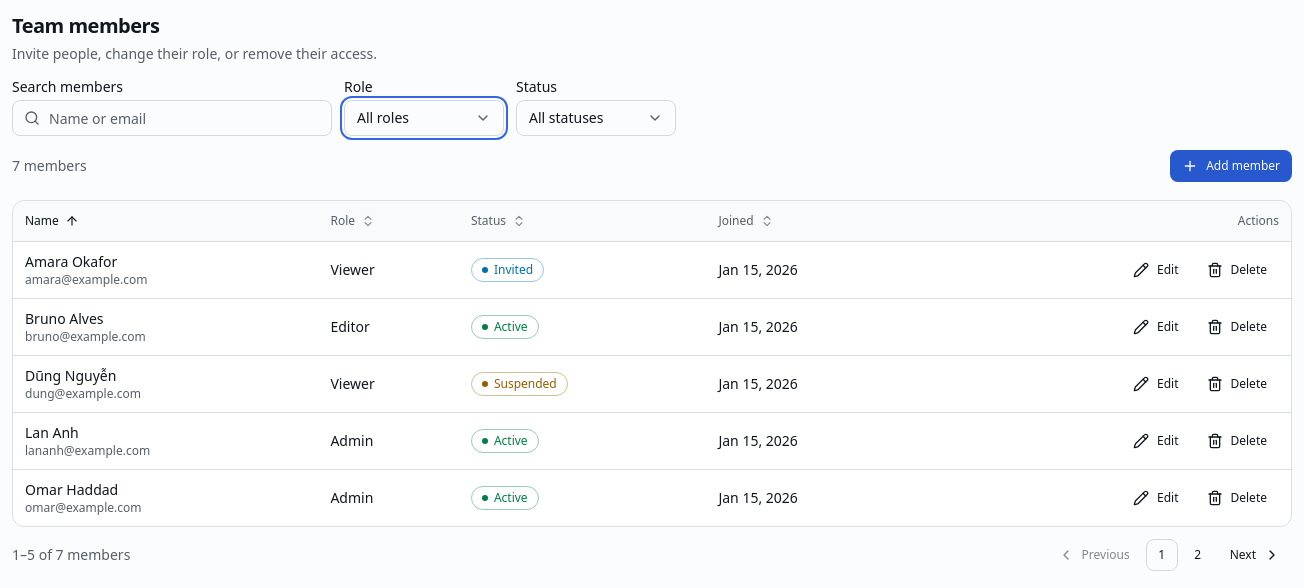
Scenario: CrudManagementPage › search and filters › filters by role and by status
Press Enter
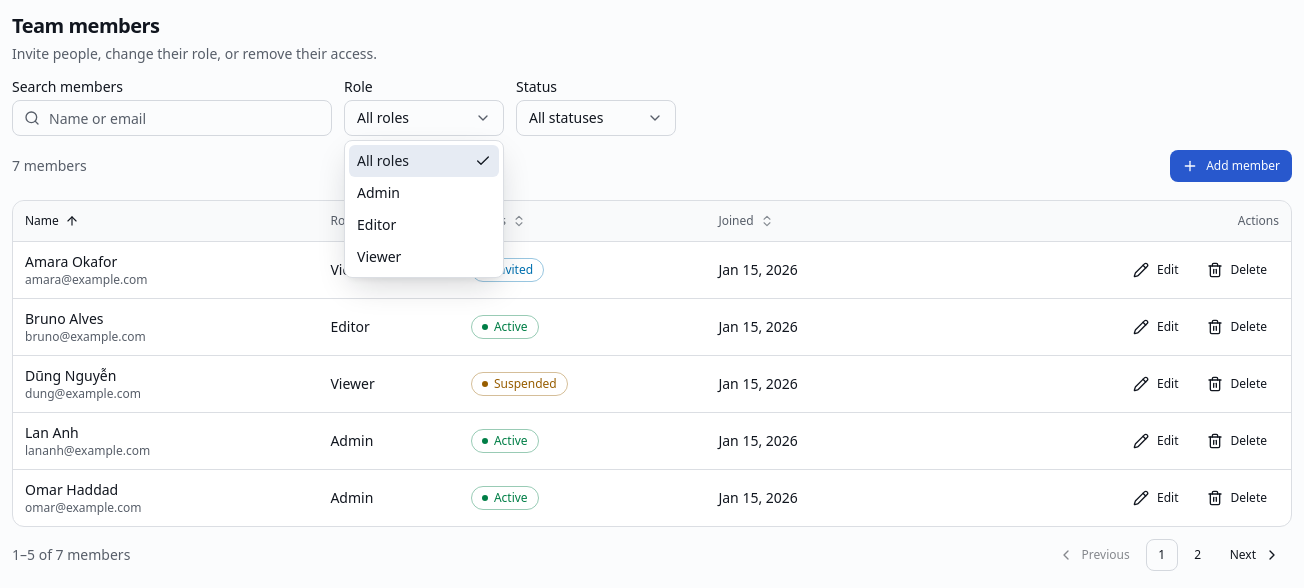
Click the option "Admin": coordinates (378, 192) [357,183,400,202]
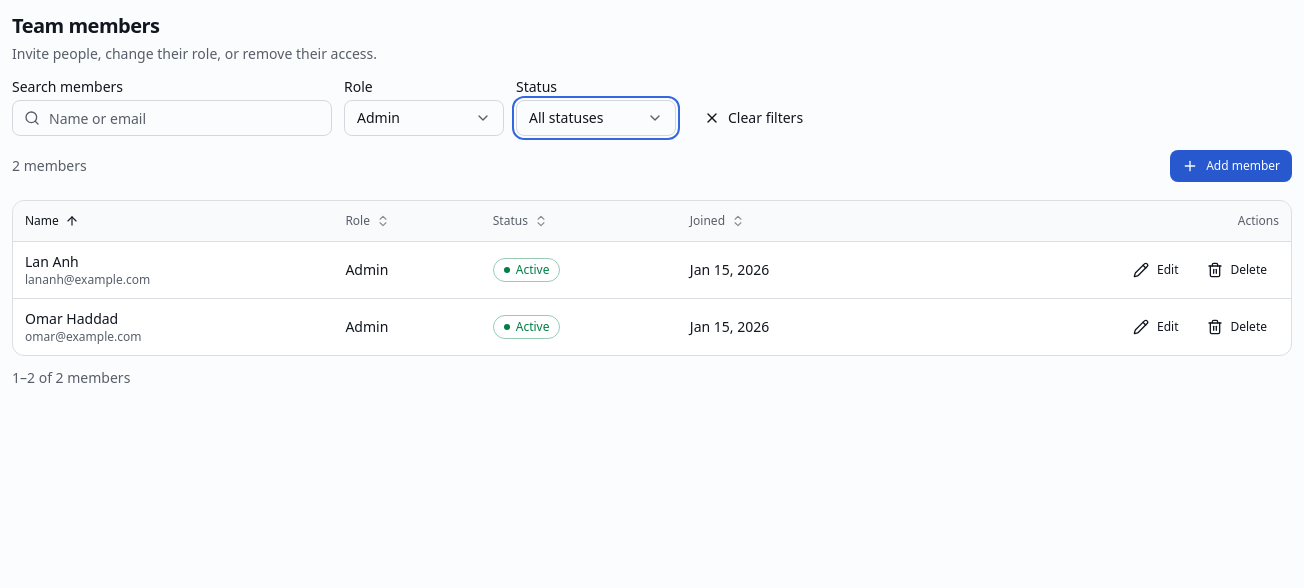
Press Enter
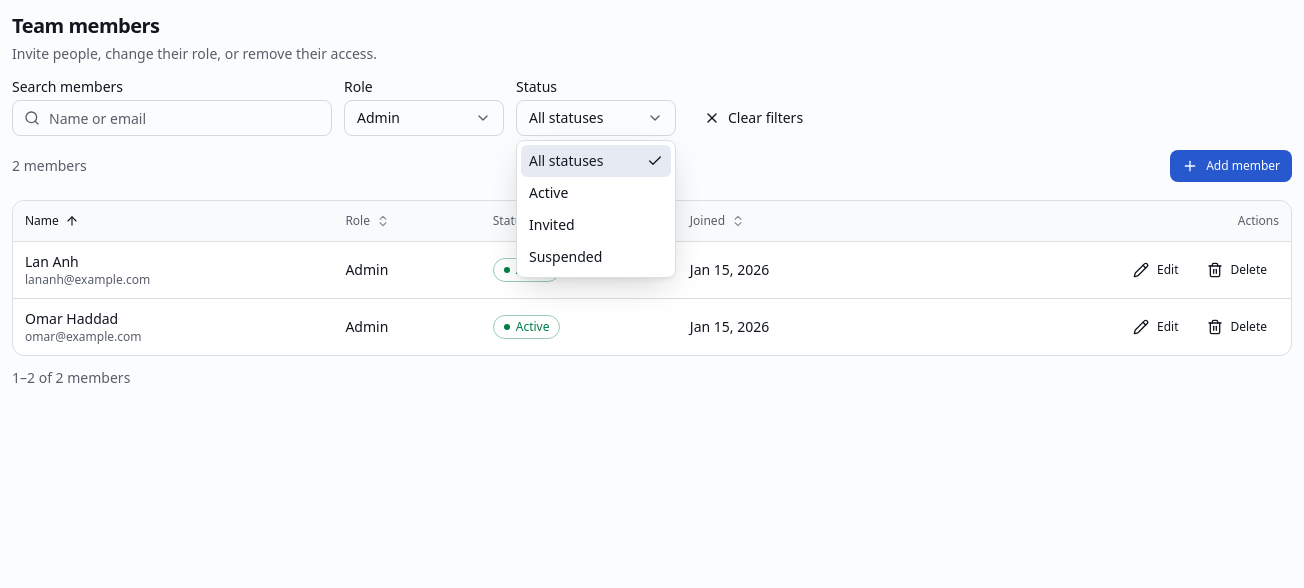
Click the option "Invited": coordinates (552, 224) [529,215,575,234]
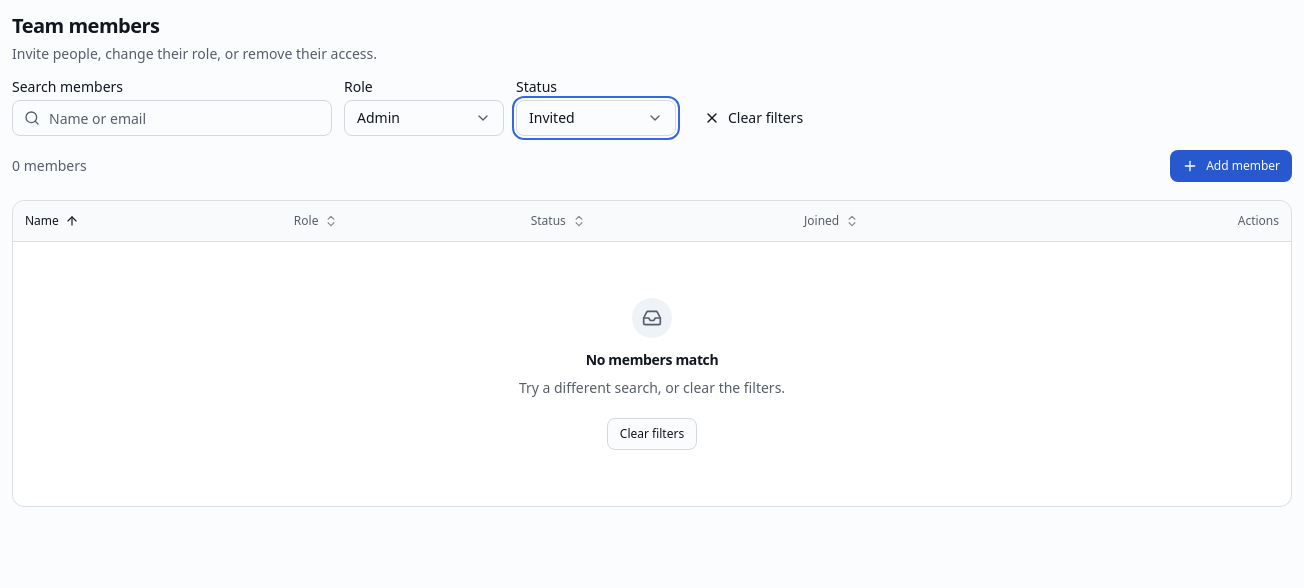
Expected: the heading "No members match" is shown, [586,350,718,370]
